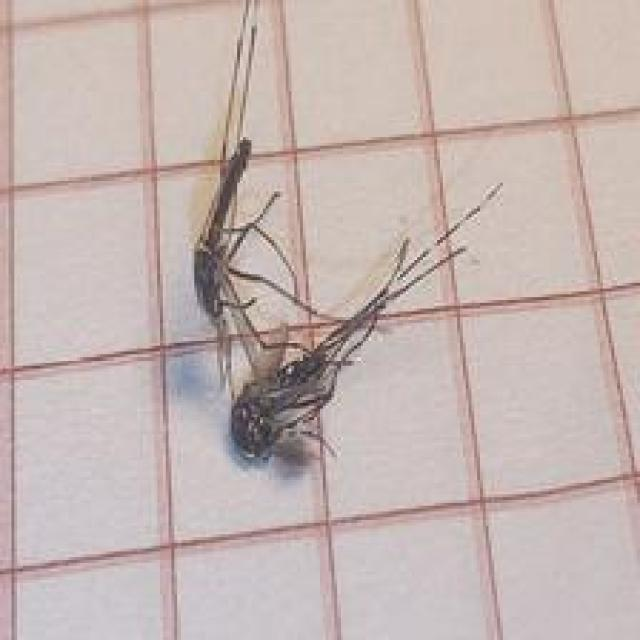Aedes albopictus: (190, 134, 504, 466)
